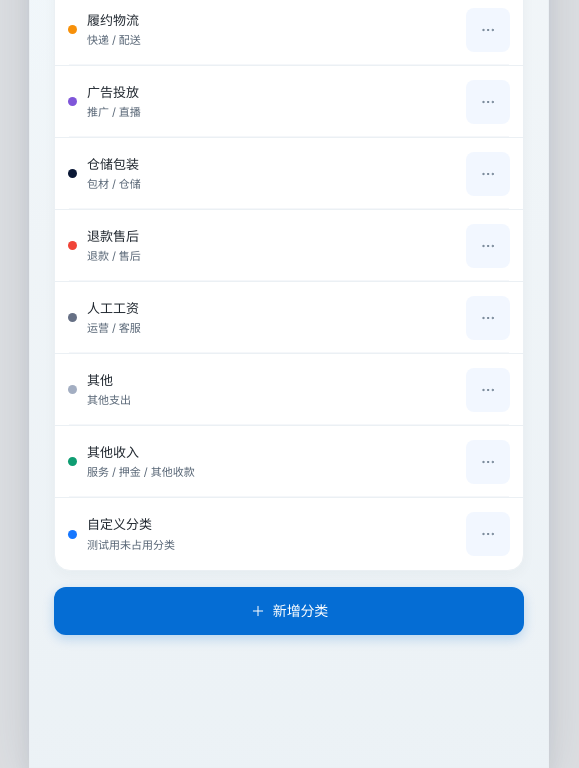
C5 分类行收敛：整行进入编辑，删除保留确认与占用校验 › 删除未占用分类：确认后删除成功，历史记录保留
(page scrolled)
What coordinates should you click on to do the following:
click the 8th button named "更多操作"
I would click on:
 (488, 534)
Its box is [466, 512, 510, 556].
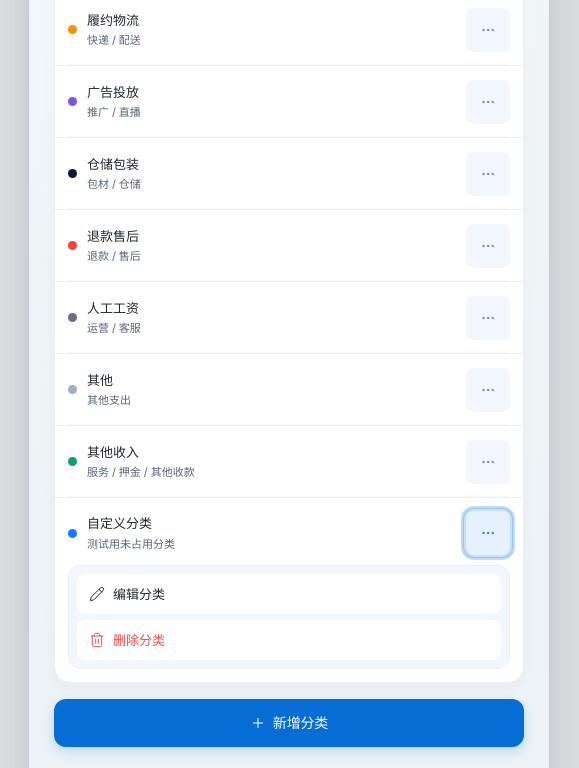
What coordinates should you click on to do the following:
click the button "删除分类"
I would click on:
 (139, 640)
Its box is [77, 620, 501, 660].
(page scrolled)
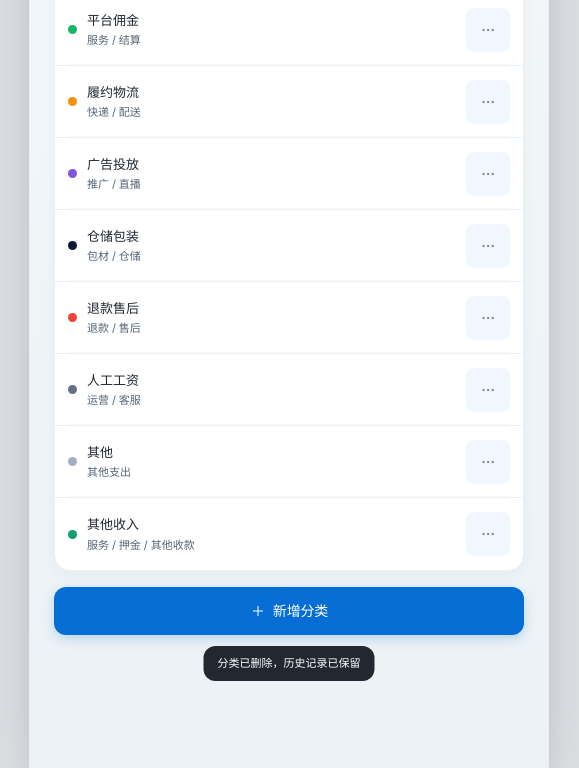
Expected: the message reads "分类已删除，历史记录已保留", [218, 656, 360, 670]
